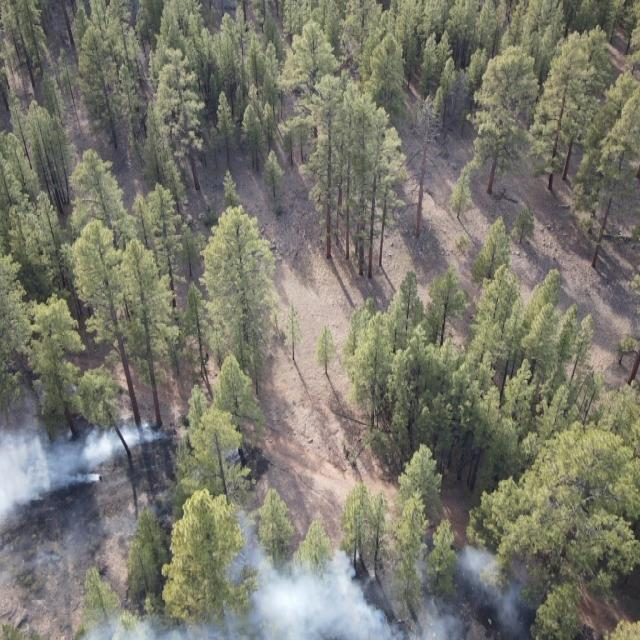fire: (134, 429, 140, 440)
smoke: (224, 544, 526, 640), (0, 400, 174, 530), (75, 615, 225, 640), (229, 506, 266, 543)
